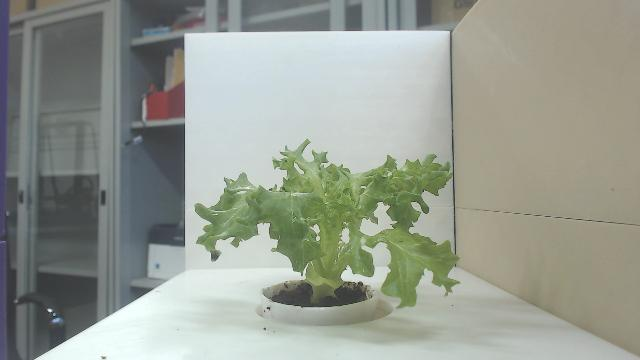Vegetative Stage: (193, 136, 463, 310)
